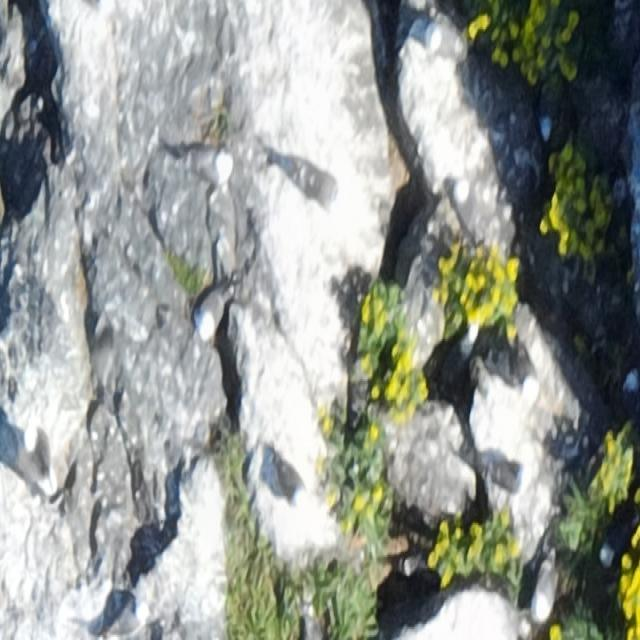umineko: (291, 150, 350, 210), (193, 280, 242, 341), (176, 133, 237, 180), (272, 446, 308, 511), (530, 550, 560, 622), (492, 448, 533, 495), (423, 18, 466, 62), (21, 422, 55, 474), (103, 601, 149, 639), (515, 333, 539, 403)
